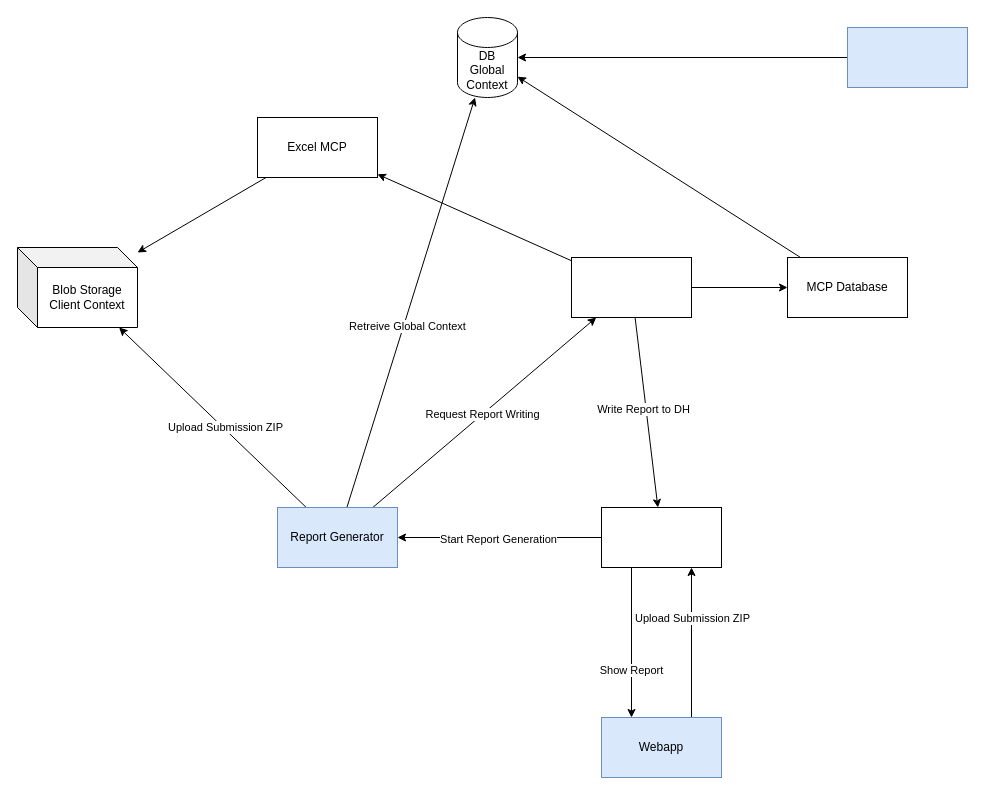
This 985x795 diagram has some shape labels left out. The centre of each missing label's shape, as x and y in pixels:
"Global Ingestion" belongs at (907,57).
"LLM" belongs at (631,287).
"Pocketbase" belongs at (661,537).
